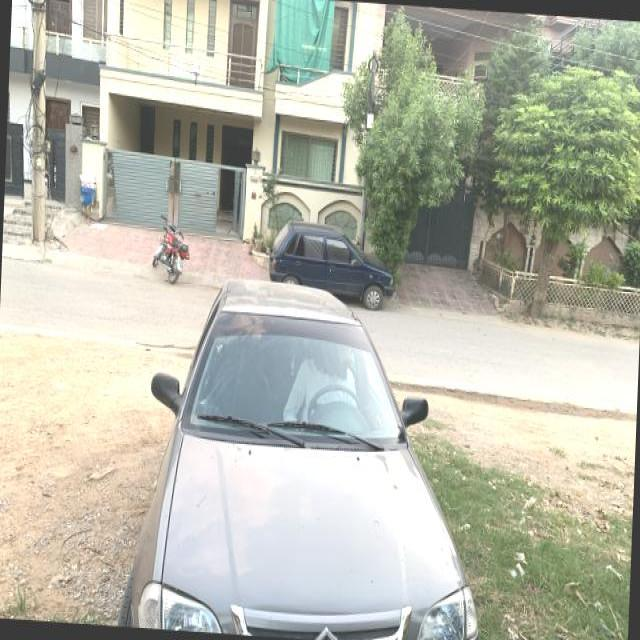no-seatbelt: (300, 360, 359, 425)
